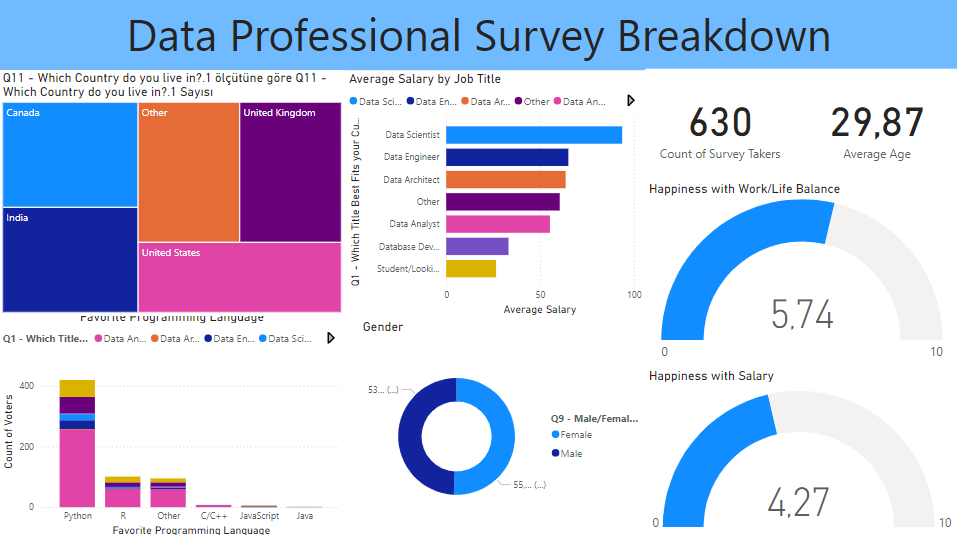

What the dashboard file says about the page in this screenshot:
{"tool":"powerbi","page":{"name":"1. sayfa","canvas":[1280,720],"ordinal":0},"visuals":[{"type":"textbox","box":[0,0,1280.3,93.3],"z":0},{"type":"card","fields":{"Values":["CountNonNull(Data Professional Survey.Unique ID)"]},"box":[861.7,91.7,200,150],"z":1000},{"type":"card","fields":{"Values":["Avg(Data Professional Survey.Q10 - Current Age)"]},"box":[1061.7,91.7,218.3,150],"z":2000},{"type":"barChart","title":"Average Salary by Job Title","fields":{"Category":["Data Professional Survey.Q1 - Which Title Best Fits your Current Role?.1"],"Y":["Avg(Data Professional Survey.Average Salary)"],"Series":["Data Professional Survey.Q1 - Which Title Best Fits your Current Role?.1"]},"box":[461.7,95,400,330],"z":3000},{"type":"columnChart","title":"Favorite Programming Language","fields":{"Category":["Data Professional Survey.Q5 - Favorite Programming Language.1"],"Y":["CountNonNull(Data Professional Survey.Unique ID)"],"Series":["Data Professional Survey.Q1 - Which Title Best Fits your Current Role?.1"]},"box":[0,411.7,461.7,308.3],"z":4000},{"type":"treemap","fields":{"Group":["Data Professional Survey.Q11 - Which Country do you live in?.1"],"Values":["Count(Data Professional Survey.Q11 - Which Country do you live in?.1)"]},"box":[0,93.3,461.7,328.3],"z":5000},{"type":"gauge","title":"Happiness with Work/Life Balance","fields":{"Y":["Avg(Data Professional Survey.Q6 - How Happy are you in your Current Position with the following? (Work/Life Balance))"],"MinValue":["Min(Data Professional Survey.Q6 - How Happy are you in your Current Position with the following? (Work/Life Balance))1"],"MaxValue":["Max(Data Professional Survey.Q6 - How Happy are you in your Current Position with the following? (Work/Life Balance))2"]},"box":[861.7,241.7,418.3,248.3],"z":6000},{"type":"gauge","title":"Happiness with Salary","fields":{"Y":["Avg(Data Professional Survey.Q6 - How Happy are you in your Current Position with the following? (Salary))"],"MinValue":["Min(Data Professional Survey.Q6 - How Happy are you in your Current Position with the following? (Salary))"],"MaxValue":["Max(Data Professional Survey.Q6 - How Happy are you in your Current Position with the following? (Salary))"]},"box":[861.7,490,418.3,230],"z":7000},{"type":"donutChart","title":"Gender","fields":{"Category":["Data Professional Survey.Q9 - Male/Female?"],"Y":["Avg(Data Professional Survey.Average Salary)"]},"box":[480,425,381.7,295],"z":8000}]}

Visuals, with their boxes in screenshot pixels (x1, y1, x2, y2), scaled from the page's 1280x720 canvas onto the 957x535 screenshot:
textbox: bbox(0, 0, 956, 69)
card - CountNonNull(Data Professional Survey.Unique ID): bbox(644, 68, 794, 180)
card - Avg(Data Professional Survey.Q10 - Current Age): bbox(794, 68, 956, 180)
"Average Salary by Job Title" barChart: bbox(345, 71, 644, 316)
"Favorite Programming Language" columnChart: bbox(0, 306, 345, 534)
treemap - Data Professional Survey.Q11 - Which Country do you live in?.1 x Count(Data Professional Survey.Q11 - Which Country do you live in?.1): bbox(0, 69, 345, 313)
"Happiness with Work/Life Balance" gauge: bbox(644, 180, 956, 364)
"Happiness with Salary" gauge: bbox(644, 364, 956, 534)
"Gender" donutChart: bbox(359, 316, 644, 534)
